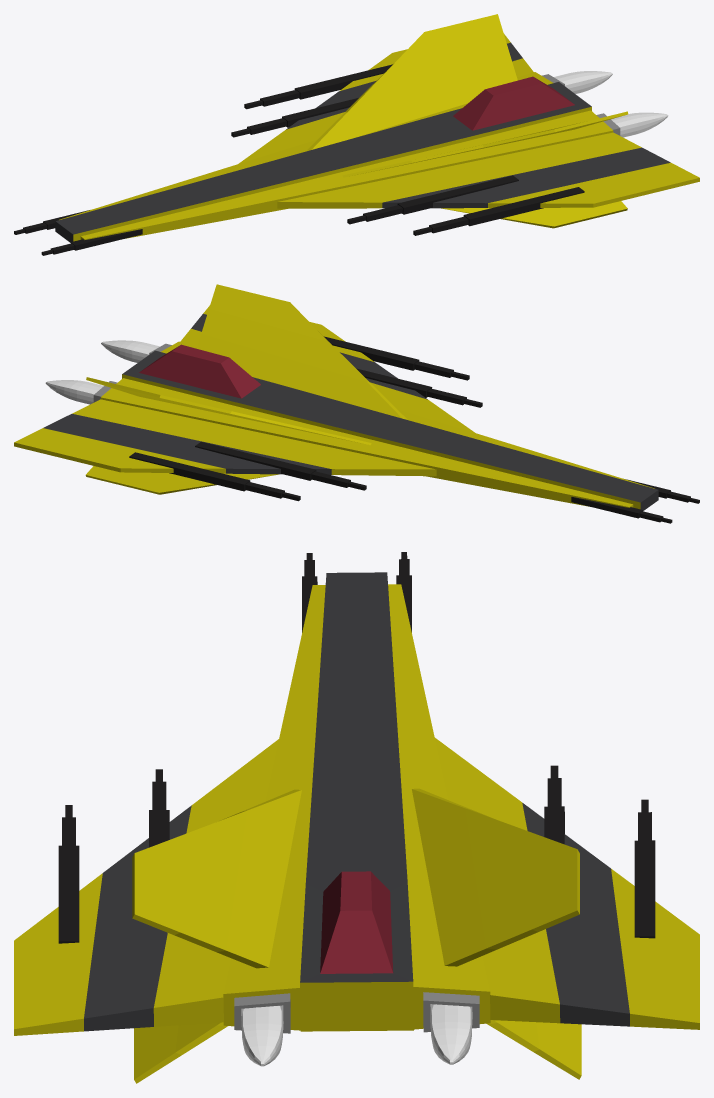
File: nave_2anima.fbx
3 views of the same model, one above another, from view 1: azimuth 30°, elevation 25°; view 2: azimuth 150°, elevation 25°; view 3: azimuth 270°, elevation 25° (orthographic). The views are drawn at different scales.
Parts seen in each view (by area): view 1: Cube.009, Cube.018, Cube.008; view 2: Cube.009, Cube.008, Cube.018; view 3: Cube.009, Cube.008, Cube.018.
Boxes of the visible parts, <box> form: Cube.009: <box>14,14,699,255</box>; Cube.018: <box>611,112,668,137</box>; Cube.008: <box>554,71,612,93</box>; Cube.009: <box>14,284,699,523</box>; Cube.008: <box>45,380,103,404</box>; Cube.018: <box>101,340,159,362</box>; Cube.009: <box>14,552,699,1083</box>; Cube.008: <box>431,1004,471,1064</box>; Cube.018: <box>242,1006,282,1066</box>.
Size of the model in its own units: 1057 by 168 by 603.
